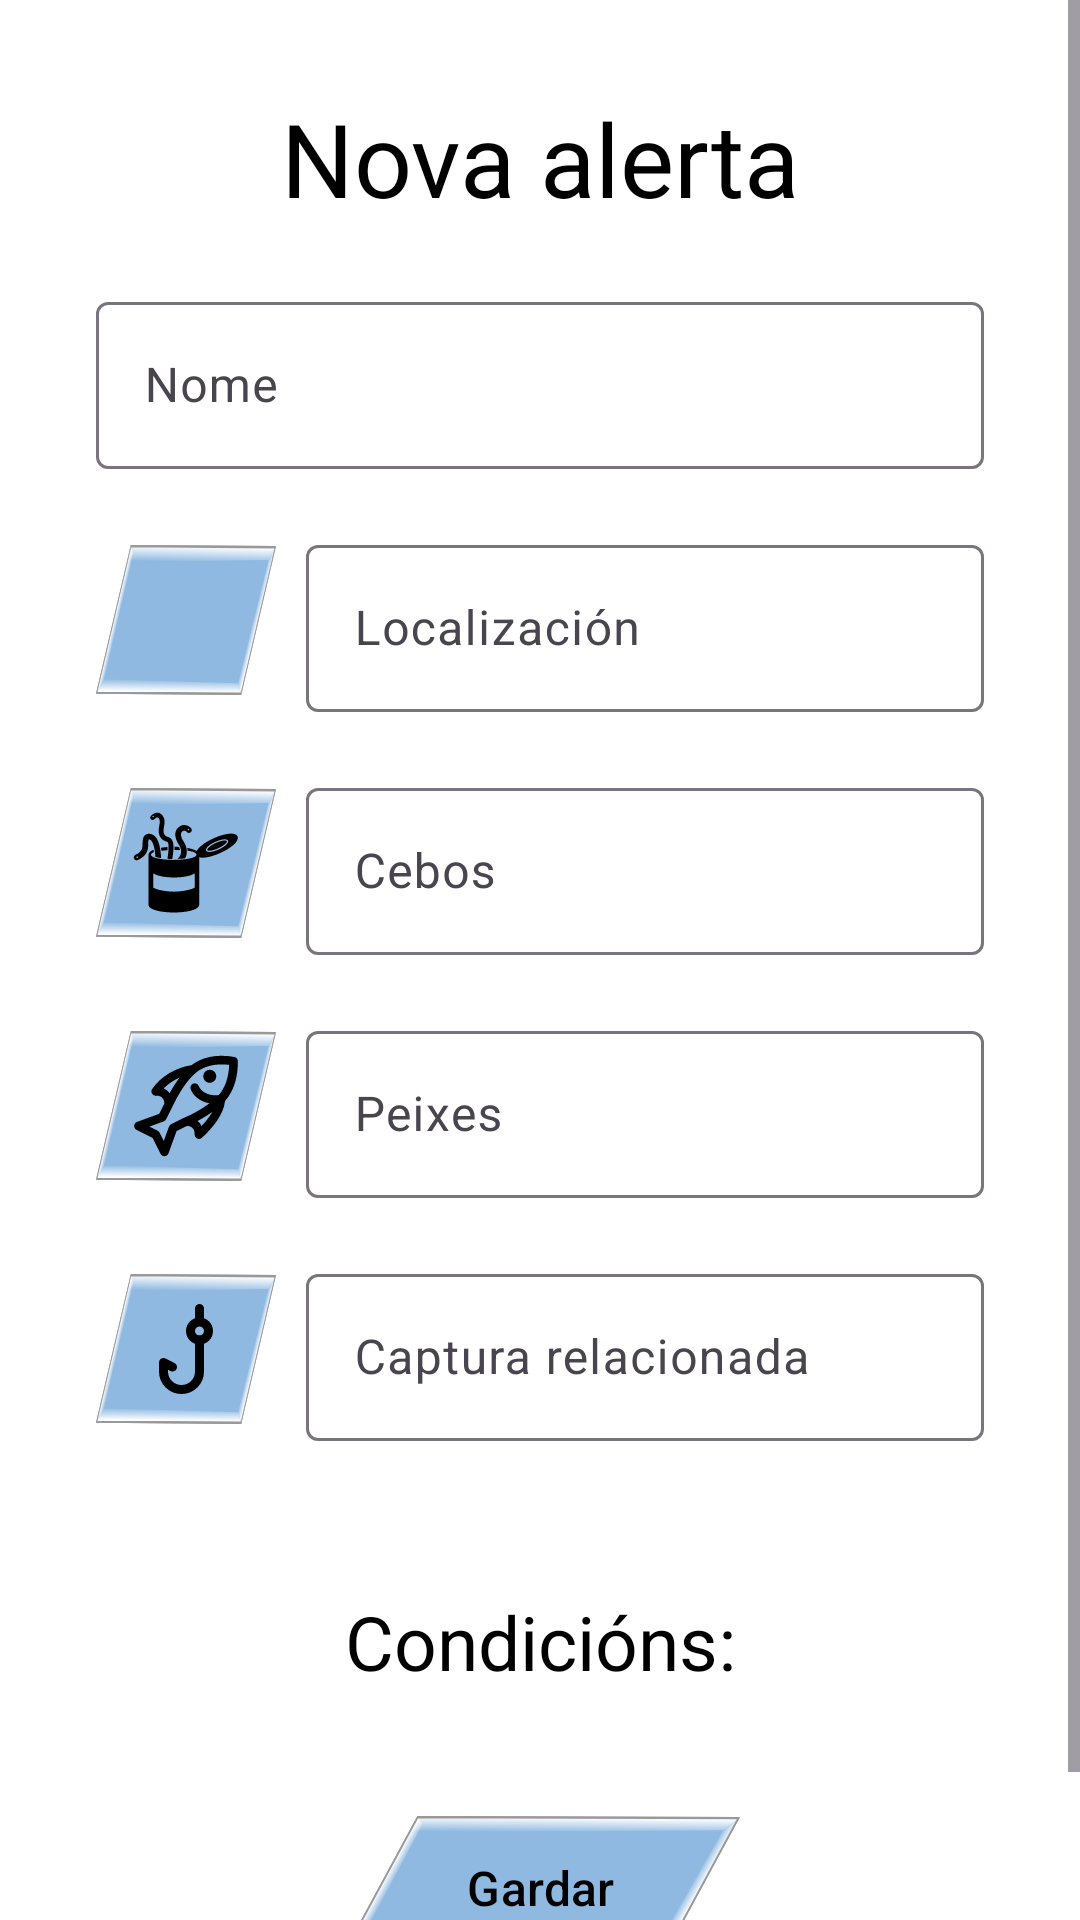

Icon click points for this 1080px x 1920px phone screenshot, format point (x, y):
baits: point (186, 863)
captures: point (186, 1349)
fish: point (186, 1106)
